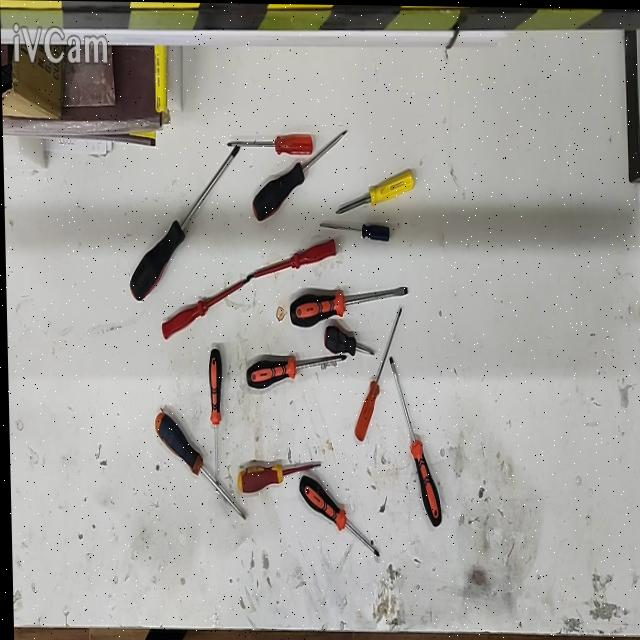Screwdriver: (129, 146, 239, 299), (153, 411, 244, 521), (387, 356, 440, 525), (252, 130, 346, 221), (297, 475, 377, 558), (352, 305, 400, 441), (161, 275, 250, 340), (288, 285, 406, 326), (244, 354, 345, 389), (334, 169, 413, 213), (249, 237, 336, 275), (235, 462, 319, 494), (206, 347, 220, 492), (226, 132, 313, 154), (323, 324, 373, 355), (318, 222, 389, 239)
